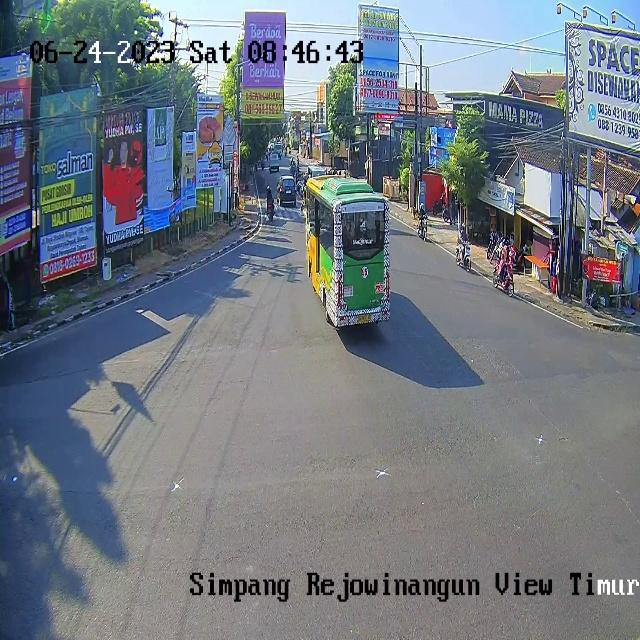bus: (494, 262, 514, 298), (456, 241, 471, 272), (417, 215, 427, 242), (266, 203, 275, 221)
car: (306, 174, 390, 328)
motorcycle: (277, 175, 296, 208)
